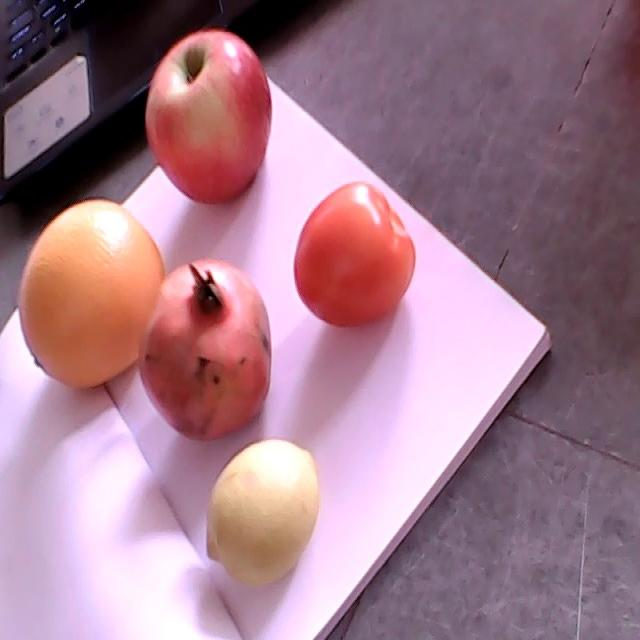apple: (144, 29, 270, 203)
lemon: (208, 441, 321, 586)
orange: (21, 200, 163, 384)
pomegranate: (138, 259, 274, 440)
tomato: (293, 183, 414, 327)
